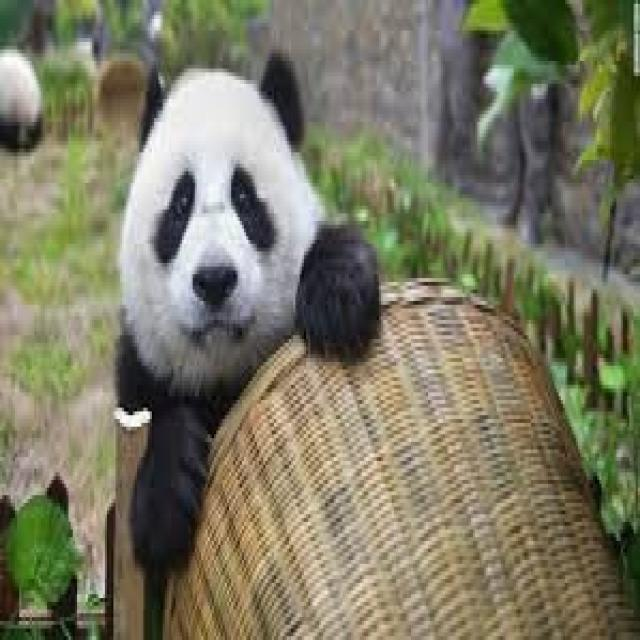Panda: (99, 65, 390, 580)
